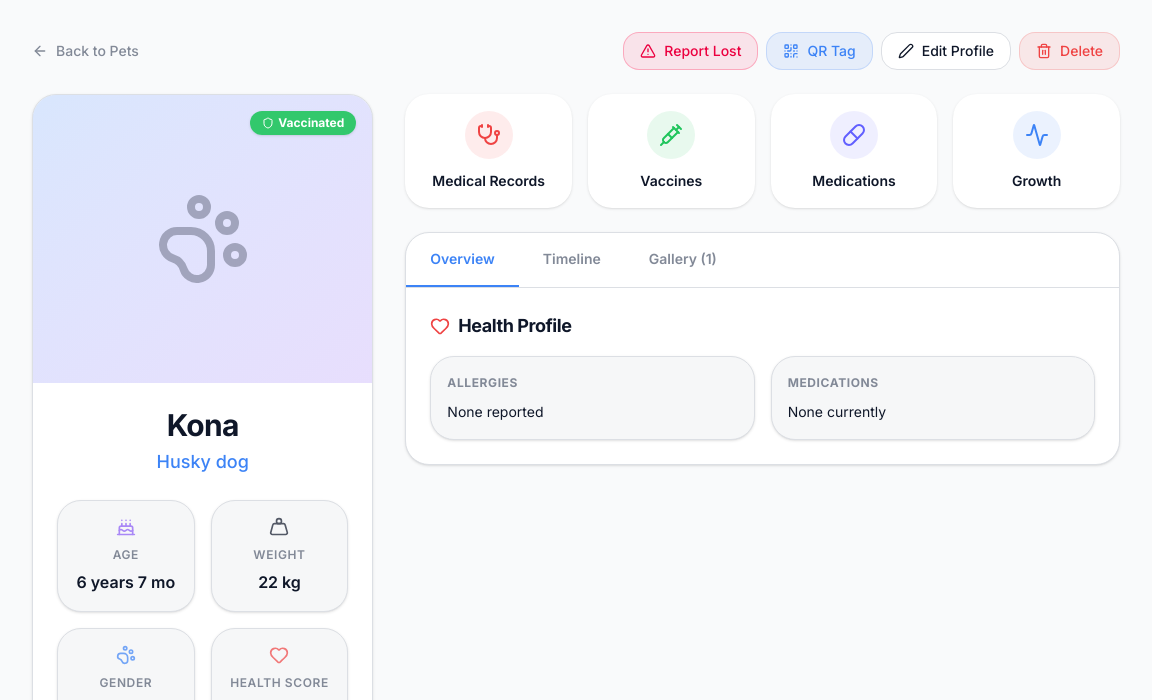
PetDetailPage Component › renders Overview, Timeline, and Gallery tabs and allows switching
The width and height of the screenshot is (1152, 700).
Expected: the button "Overview" is shown, [406,233,519,287]
Note: Click Gallery tab
Click the button "Gallery (1)".
click(683, 260)  # box [625,233,741,287]
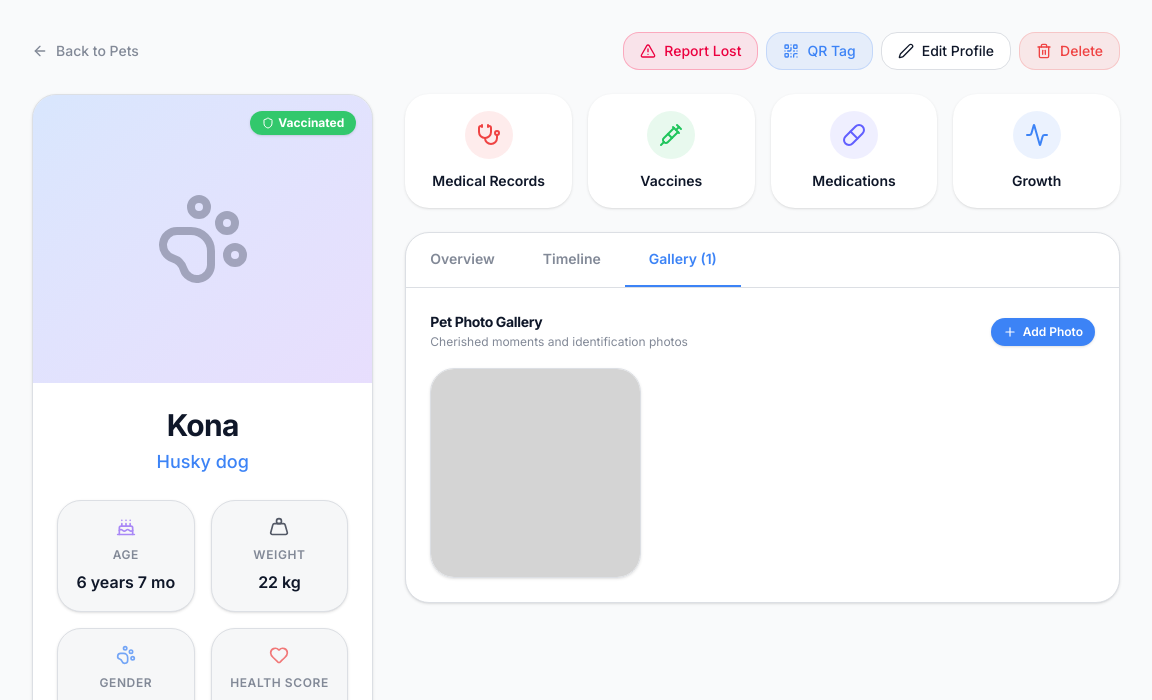
Expected: the heading "Pet Photo Gallery" is shown, [430,313,542,330]
